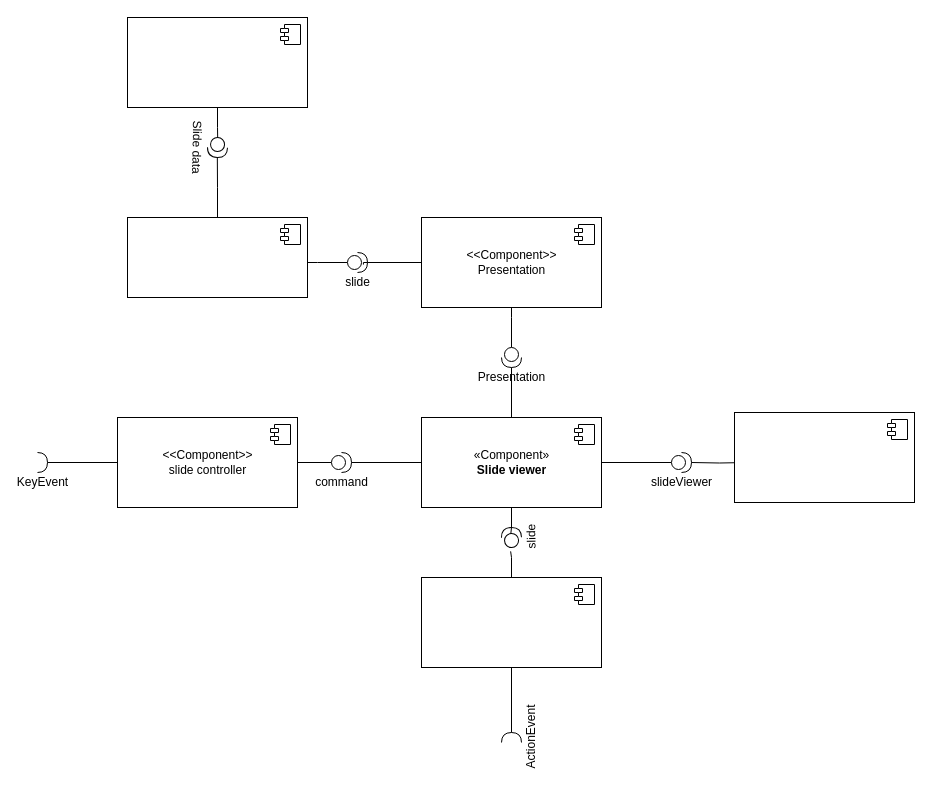
The diagram is 932 pixels wide and 787 high, and some of its shapes have lost their labels. Each missing label, with the centre of its shape:
"<<Component>> Accessor" goes at pixel 217 62.
"<<Component>> Jabberpoint <<UI>>" goes at pixel 824 457.
"<<Component>> Menu" goes at pixel 511 622.
"<<Component>> Slide" goes at pixel 217 257.
